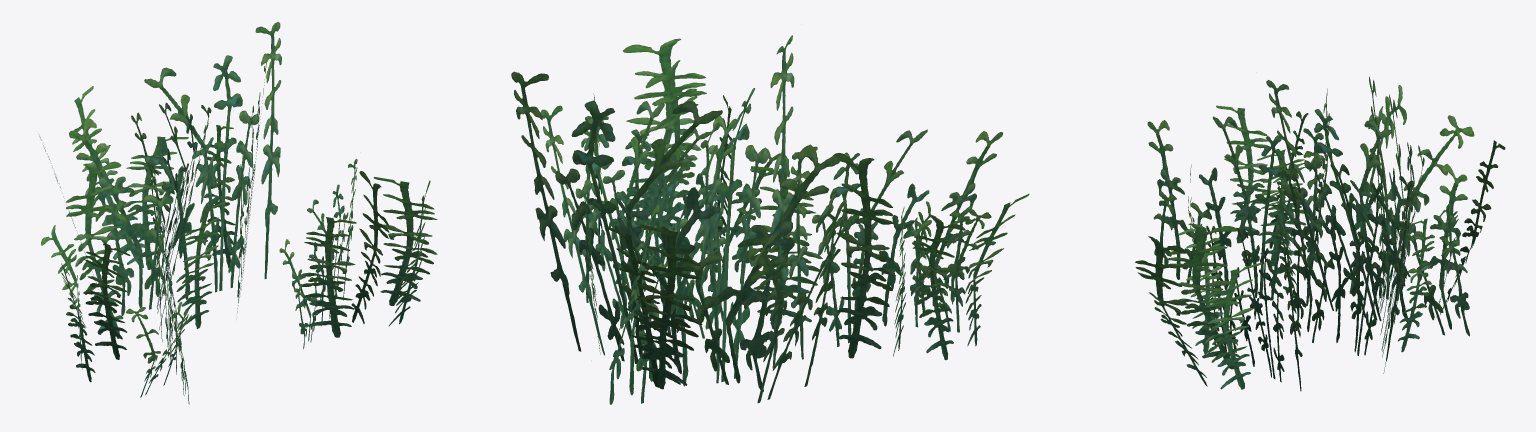
Rendered from ss_cao_4.FBX.
The picture shows the model from 3 angles, left to right: view 1: azimuth 30°, elevation 25°; view 2: azimuth 150°, elevation 25°; view 3: azimuth 270°, elevation 25°; orthographic projection. The views are drawn at different scales.
Parts seen in each view (by area): view 1: ss_cao_4; view 2: ss_cao_4; view 3: ss_cao_4.
Boxes of the visible parts, x1,y1,x2,y2 form: ss_cao_4: (38,22,437,404); ss_cao_4: (511,35,1029,404); ss_cao_4: (1135,76,1505,391).
Bounding box in the file's own units: 185 × 113 × 172.
